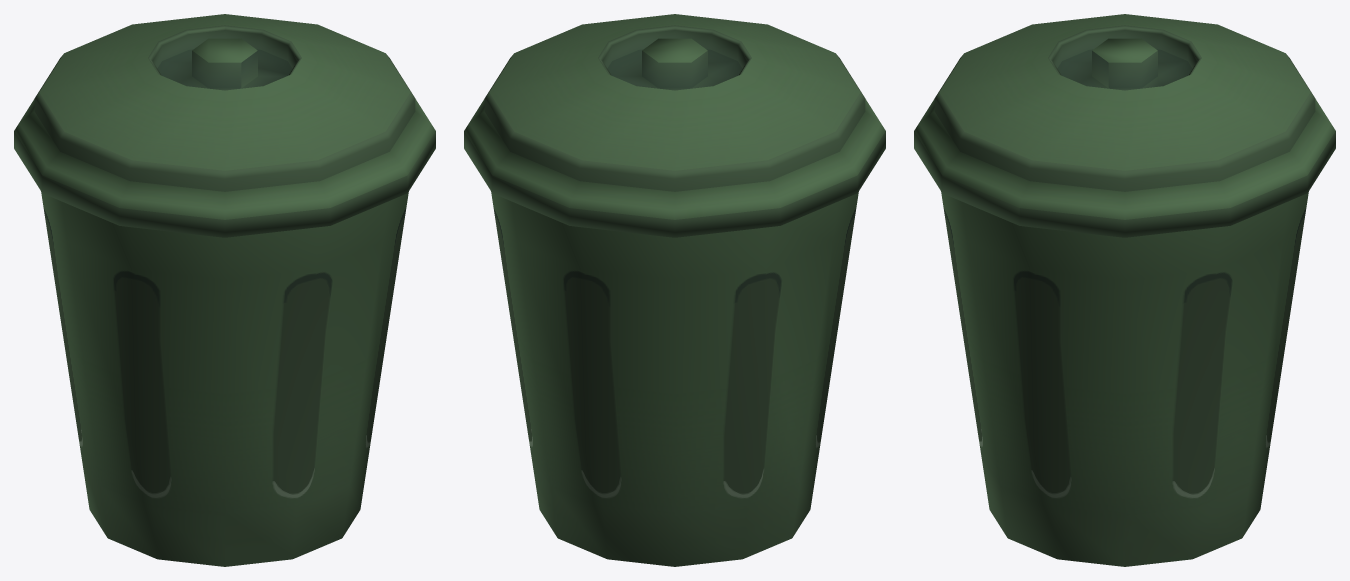
File: TrashcCan.fbx
3 views of the same model, side by side, from view 1: azimuth 30°, elevation 25°; view 2: azimuth 150°, elevation 25°; view 3: azimuth 270°, elevation 25° (orthographic).
Visible parts, largest first — view 1: TrashCan_SM; view 2: TrashCan_SM; view 3: TrashCan_SM.
Boxes of the visible parts, x1,y1,x2,y2 form: TrashCan_SM: [14, 14, 435, 566]; TrashCan_SM: [464, 14, 885, 566]; TrashCan_SM: [914, 14, 1335, 566].
Bounding box in the file's own units: 69.66 × 83.69 × 69.66.
